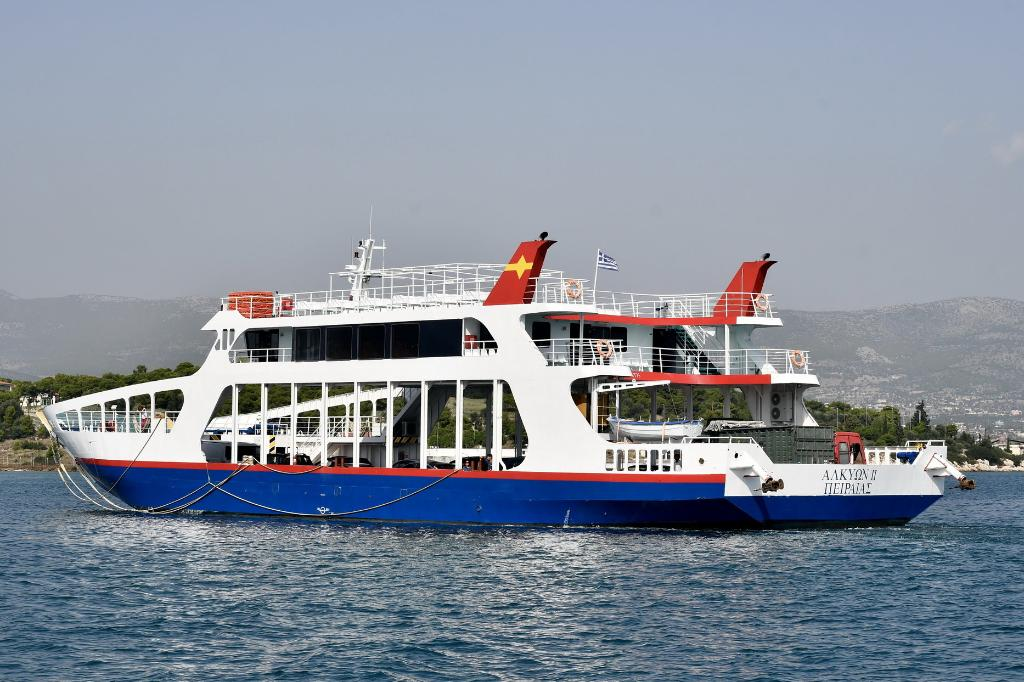PassengerShip: (28, 219, 988, 532)
